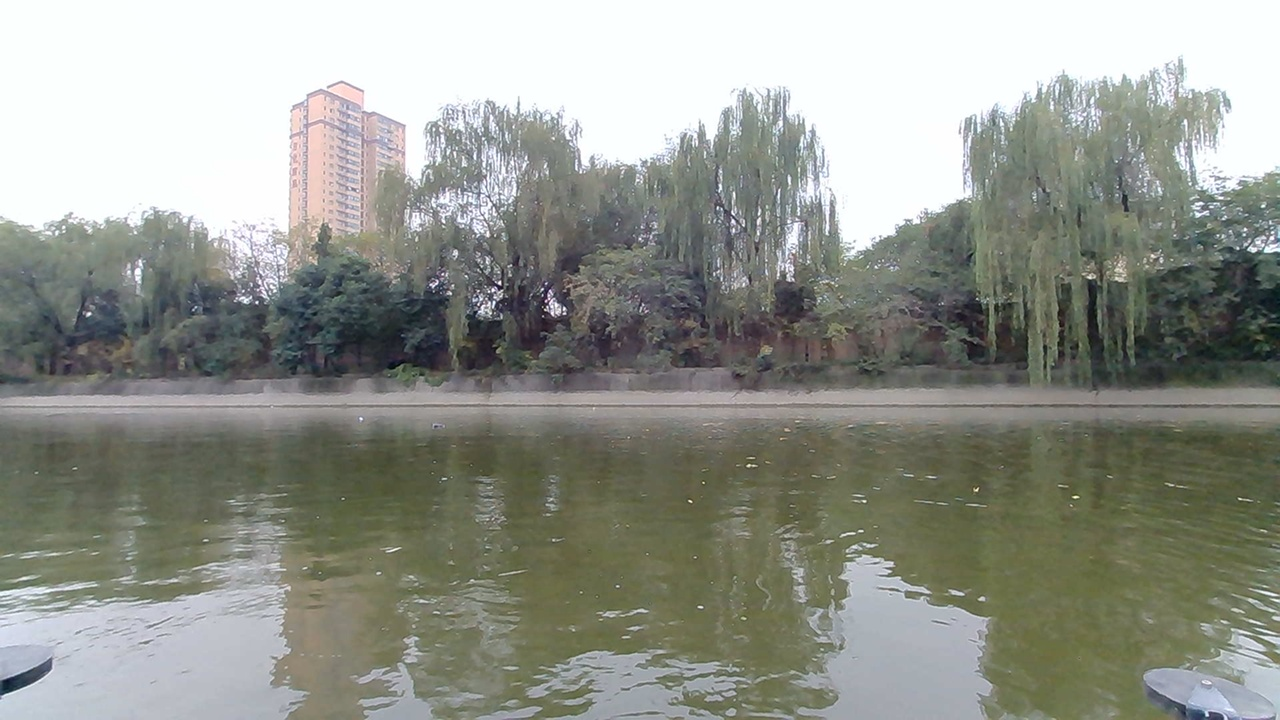bottle: (419, 419, 457, 439)
